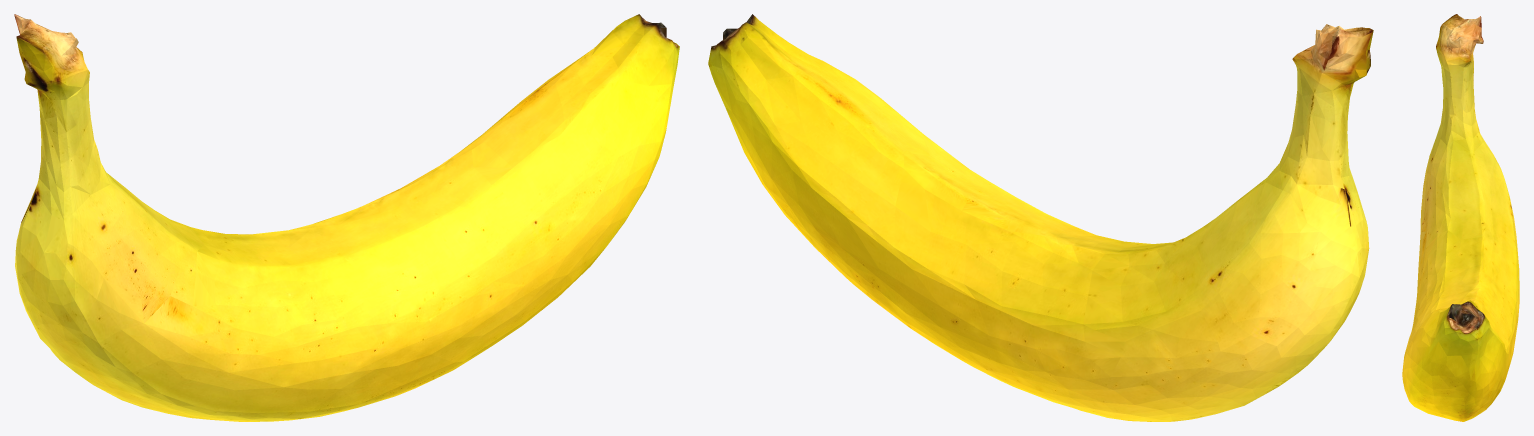
The model's file is banana-v1.glb.
The picture shows the model from 3 angles, left to right: view 1: azimuth 30°, elevation 25°; view 2: azimuth 150°, elevation 25°; view 3: azimuth 270°, elevation 25°; orthographic projection. The views are drawn at different scales.
Parts seen in each view (by area): view 1: banana; view 2: banana; view 3: banana.
Part boxes in pixels (<box>): banana: <box>14,14,679,421</box>; banana: <box>708,14,1373,421</box>; banana: <box>1402,14,1519,421</box>.
Bounding box in the file's own units: 6.79 × 4.43 × 1.62.
Materials: 1 (1 with a texture image).
